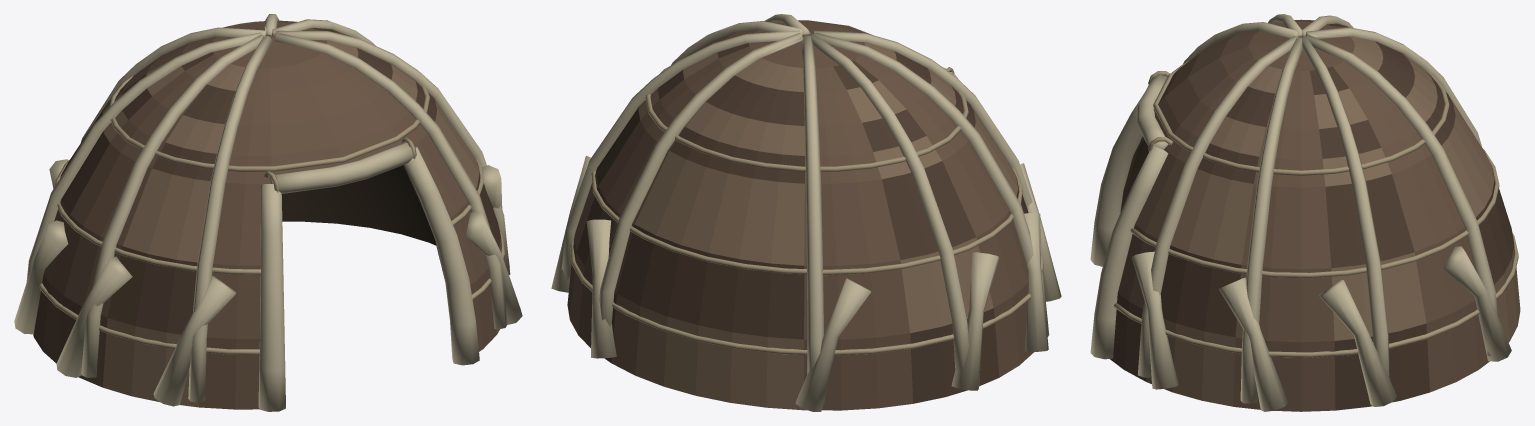
File: bone_hide_shelter_lod0.glb
3 views of the same model, side by side, from view 1: azimuth 30°, elevation 25°; view 2: azimuth 150°, elevation 25°; view 3: azimuth 270°, elevation 25° (orthographic).
Visible parts, largest first — view 1: bone_hide_shelter_lod0; view 2: bone_hide_shelter_lod0; view 3: bone_hide_shelter_lod0.
Part boxes in pixels (x1,y1,x2,y2): bone_hide_shelter_lod0: (14,14,522,411); bone_hide_shelter_lod0: (551,14,1061,411); bone_hide_shelter_lod0: (1090,14,1520,411).
Size of the model in its own units: 3.16 by 1.88 by 2.65.
